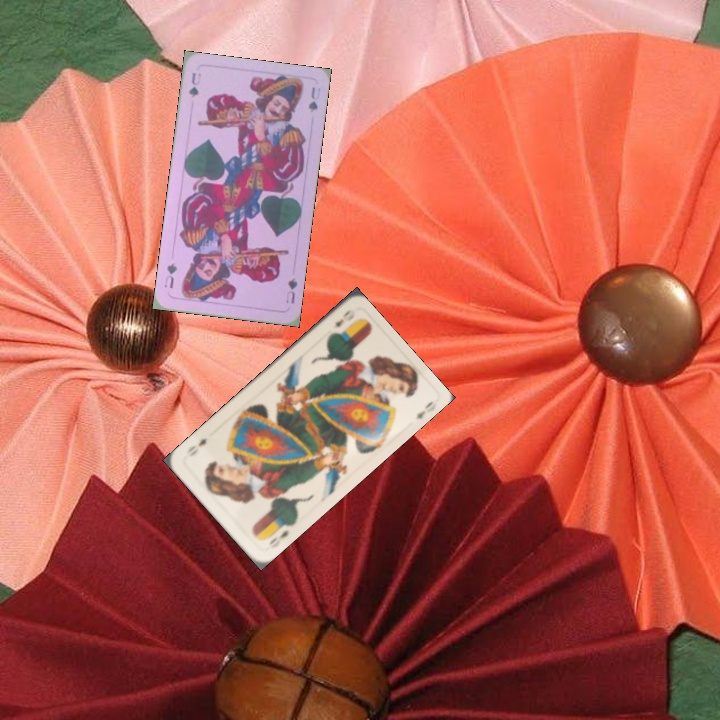EO: (259, 520, 294, 548), (329, 305, 358, 331)
GU: (282, 274, 300, 306), (185, 68, 203, 100)
